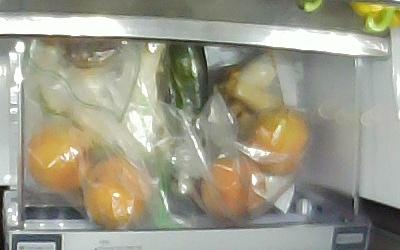peach_vinyl: (84, 157, 152, 227), (27, 128, 95, 192), (200, 157, 268, 221), (248, 109, 312, 175)
